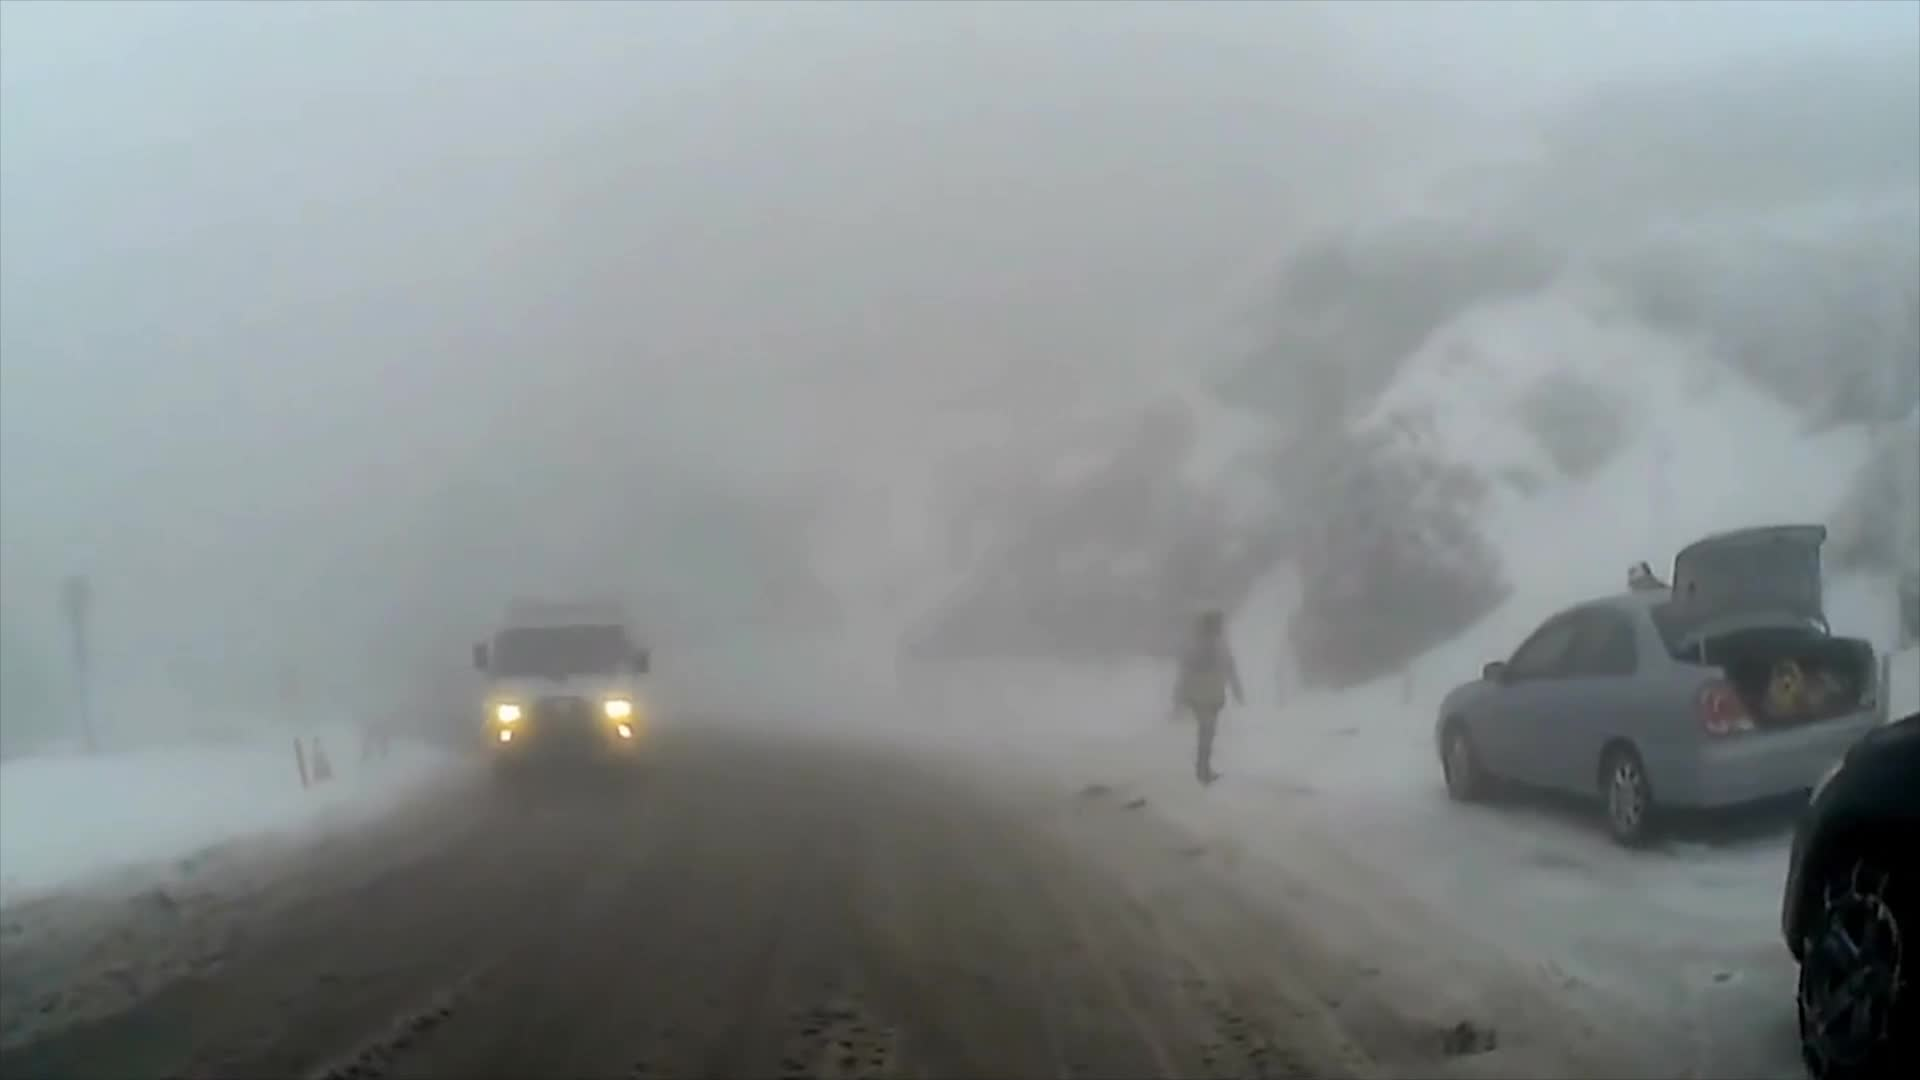pedestrian: (1169, 606, 1243, 792)
vehicle: (1437, 498, 1904, 852), (1781, 705, 1919, 1079), (465, 596, 651, 798)
